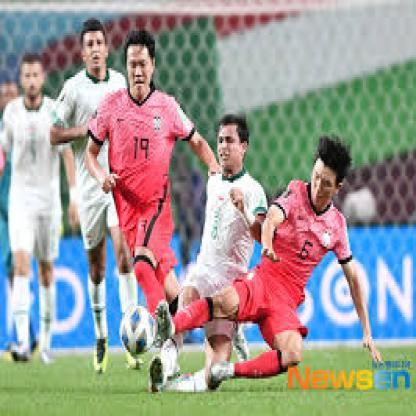Fall_Down: (152, 138, 387, 387)
